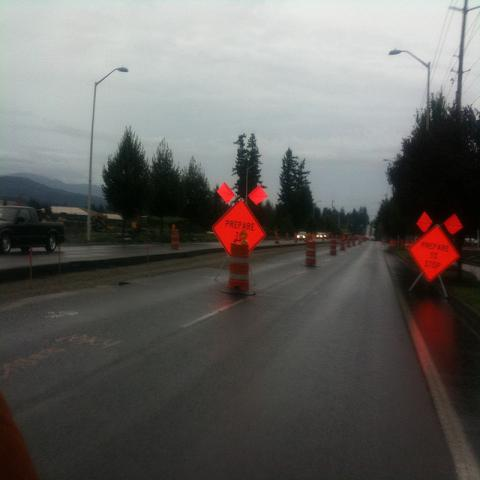car: (297, 231, 306, 240), (316, 232, 327, 238), (323, 232, 329, 238), (369, 236, 376, 241)
truck: (1, 206, 66, 256)
